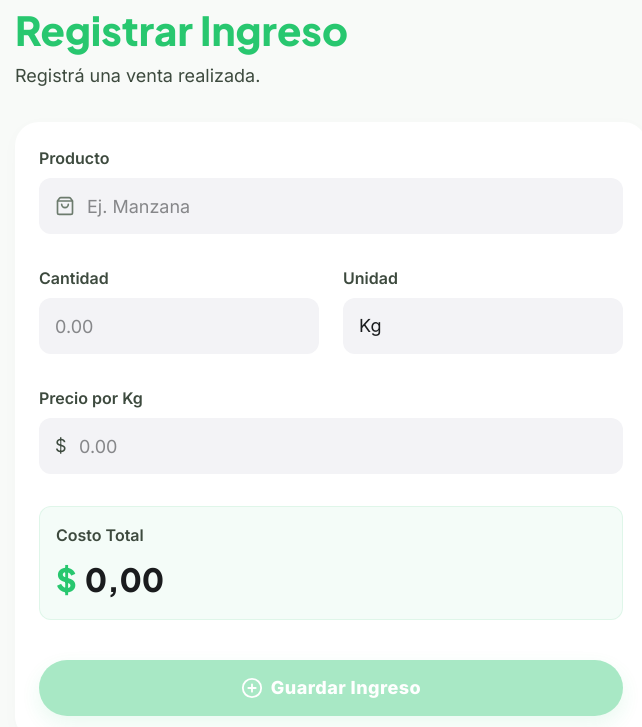
TransactionForm - autocomplete unit auto-fill › auto-fills unit to Kg and price when selecting a product with unit Kg
The width and height of the screenshot is (642, 727).
Type "Man" into the field with placeholder "Ej. Manzana".
click(331, 206); type("Man")  # box [39,178,623,234]
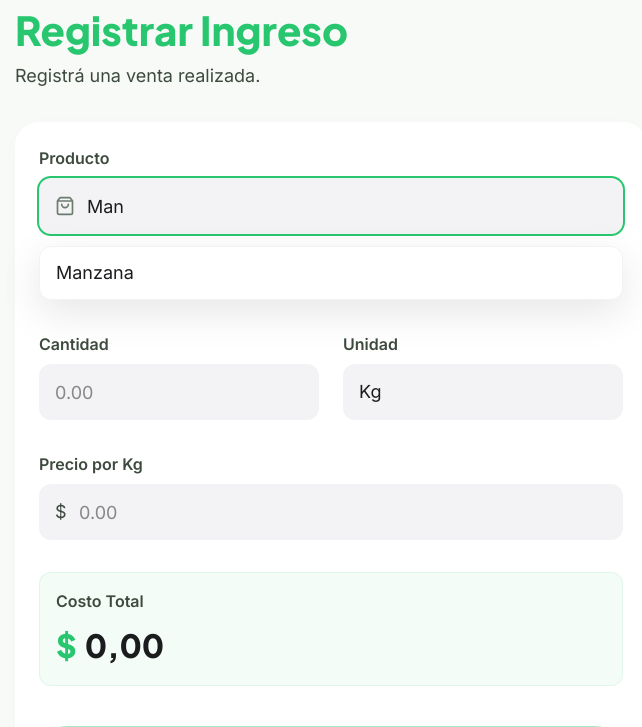
Click the button "Manzana".
click(95, 272)  # box [40,247,622,299]
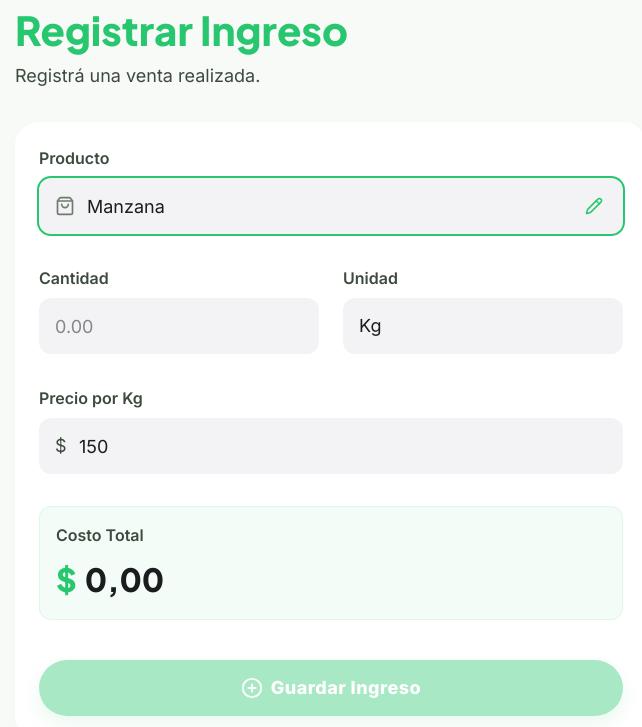
expect the dropdown shows "Kg": met, box [343,298,623,354]
expect the 2nd number field holds "150": met, box [39,418,623,474]
